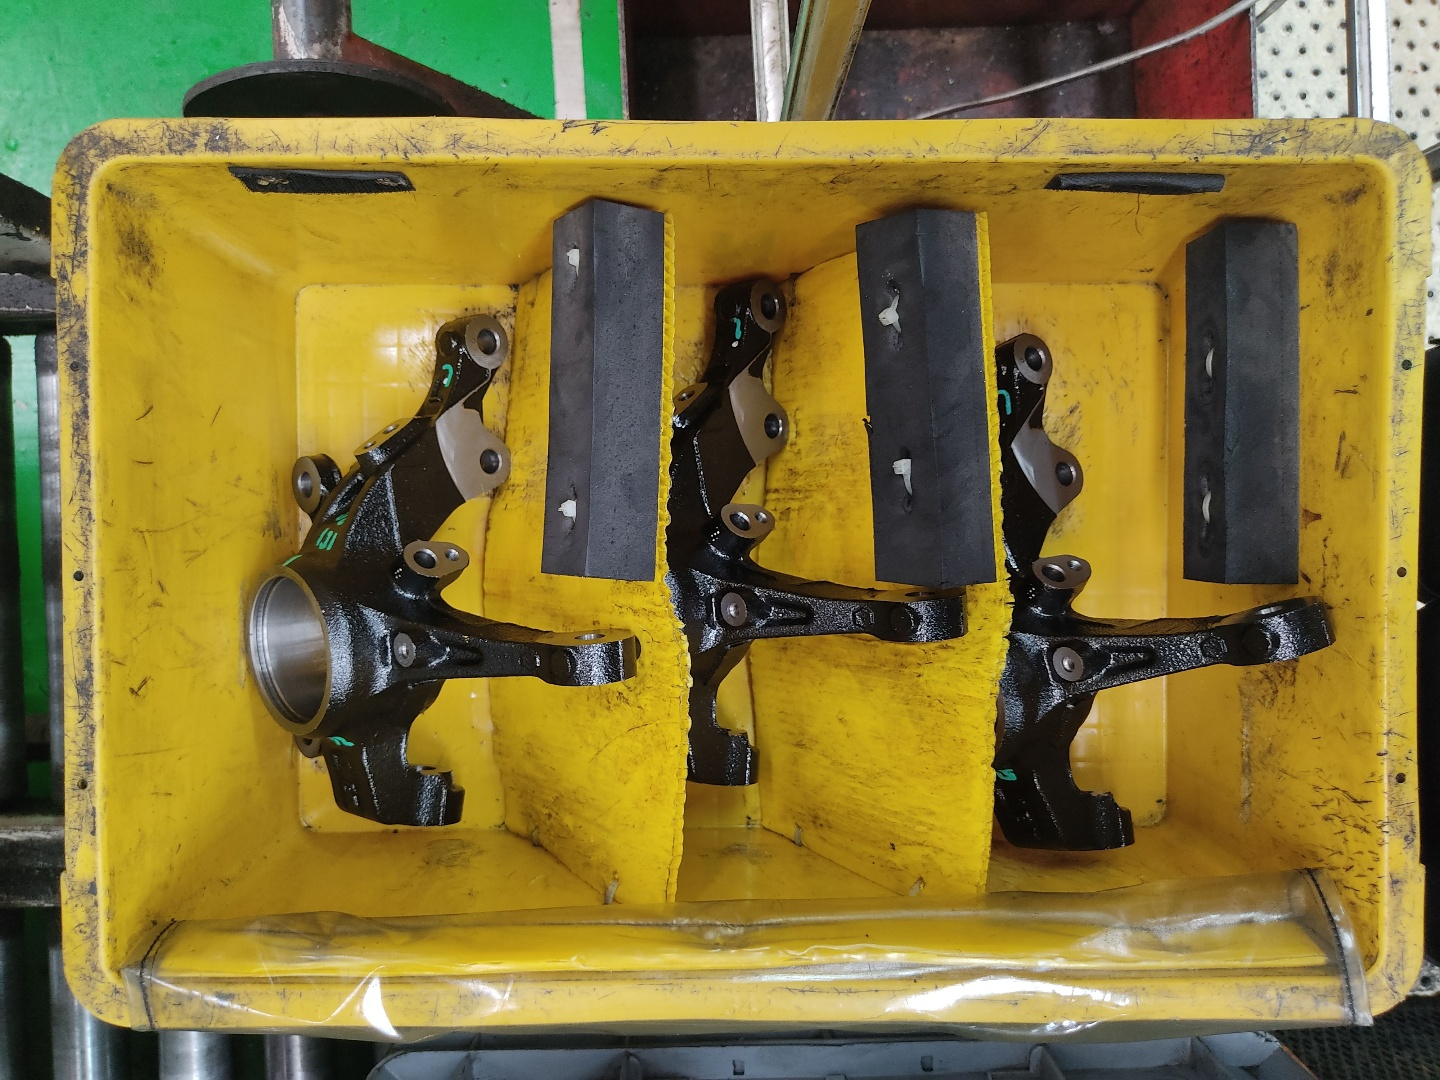abs-lh: (236, 302, 649, 838), (983, 320, 1346, 859), (657, 265, 975, 800)
